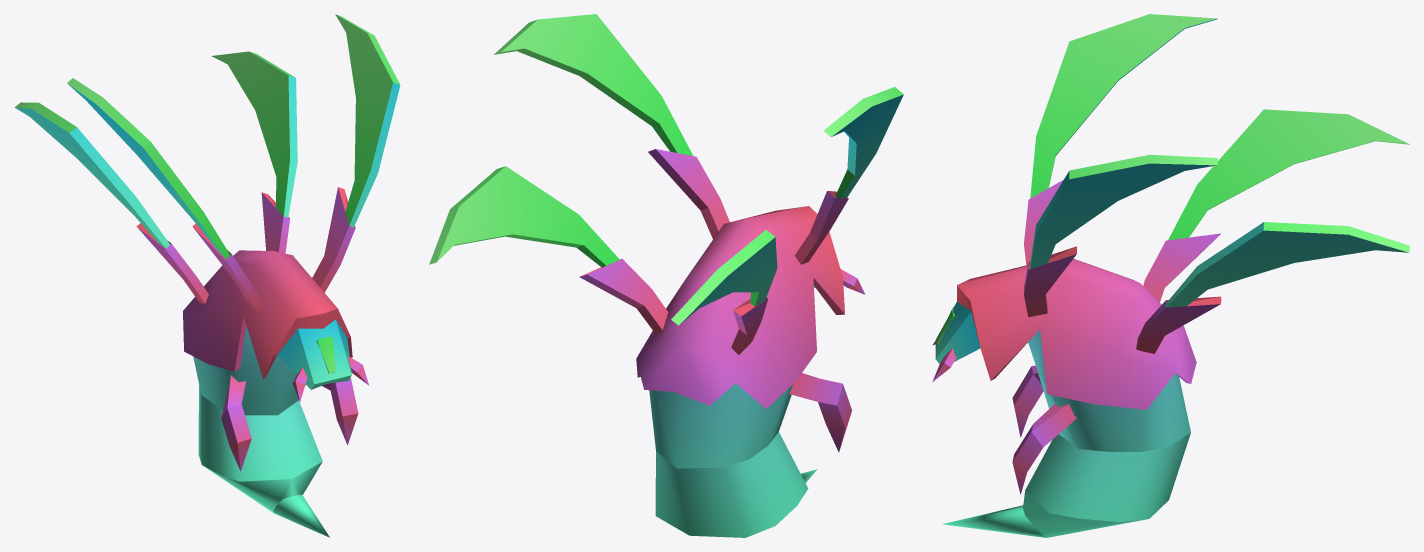
Rendered from Alien_03.fbx.
The picture shows the model from 3 angles, left to right: view 1: azimuth 30°, elevation 25°; view 2: azimuth 150°, elevation 25°; view 3: azimuth 270°, elevation 25°; orthographic projection. The views are drawn at different scales.
Visible parts, largest first — view 1: Alien_03; view 2: Alien_03; view 3: Alien_03.
Part boxes in pixels (x1=…): Alien_03: x1=15, y1=14, x2=400, y2=537; Alien_03: x1=429, y1=14, x2=903, y2=537; Alien_03: x1=932, y1=14, x2=1409, y2=537.
Bounding box in the file's own units: 341 × 484 × 463.
